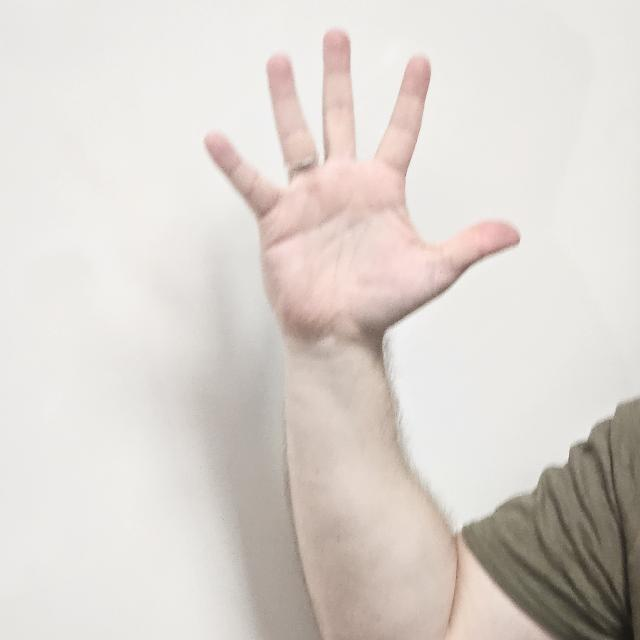X: (201, 26, 521, 382)
